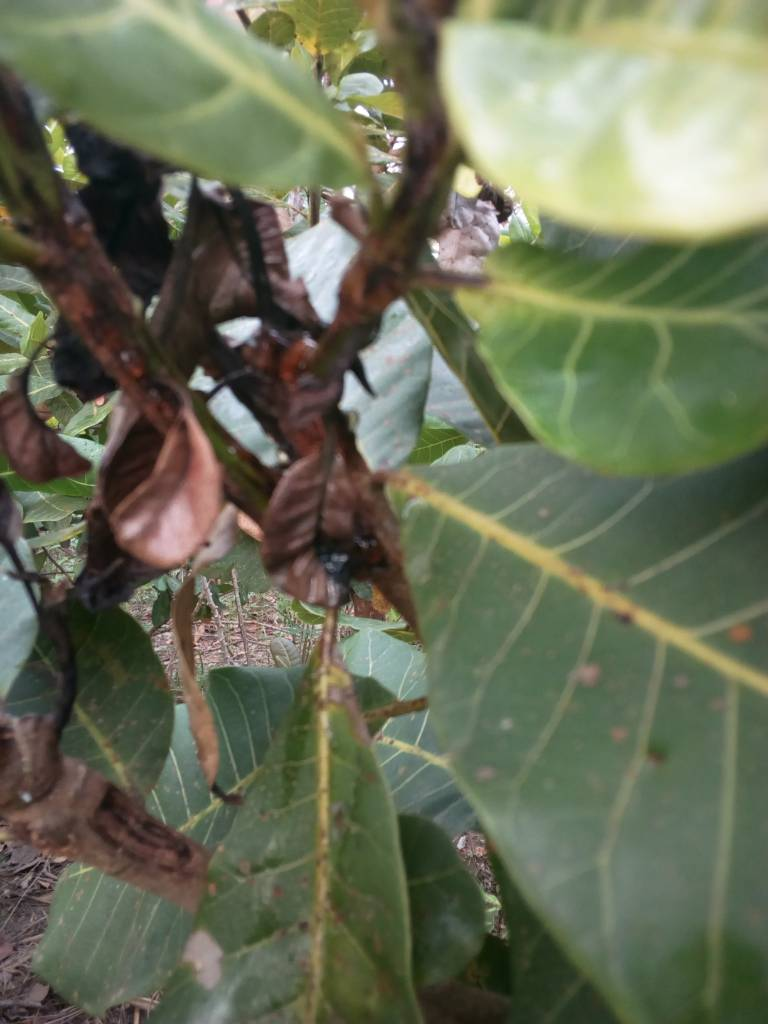Bactériose: (263, 396, 404, 603), (2, 344, 91, 483)
